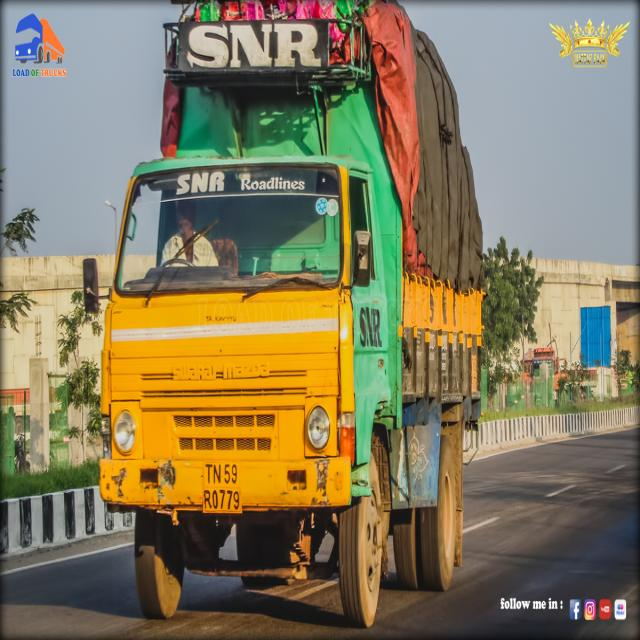Plate: (200, 455, 245, 522)
truck: (106, 0, 472, 627)
